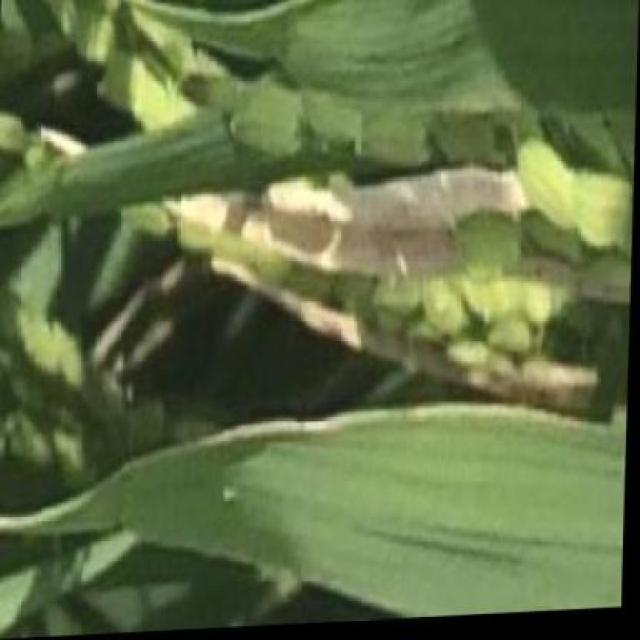Brown_Spot: (208, 406, 604, 608)
